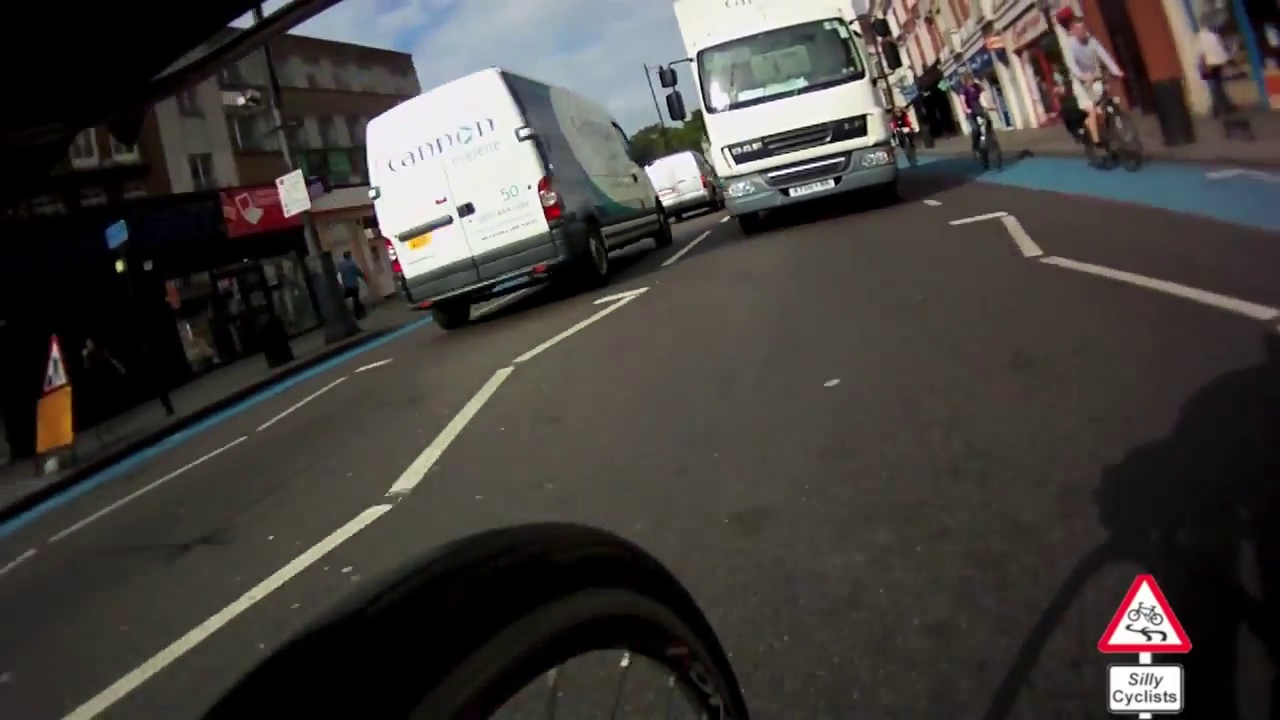cyclist_front: (1053, 12, 1147, 178), (952, 71, 1007, 178)
